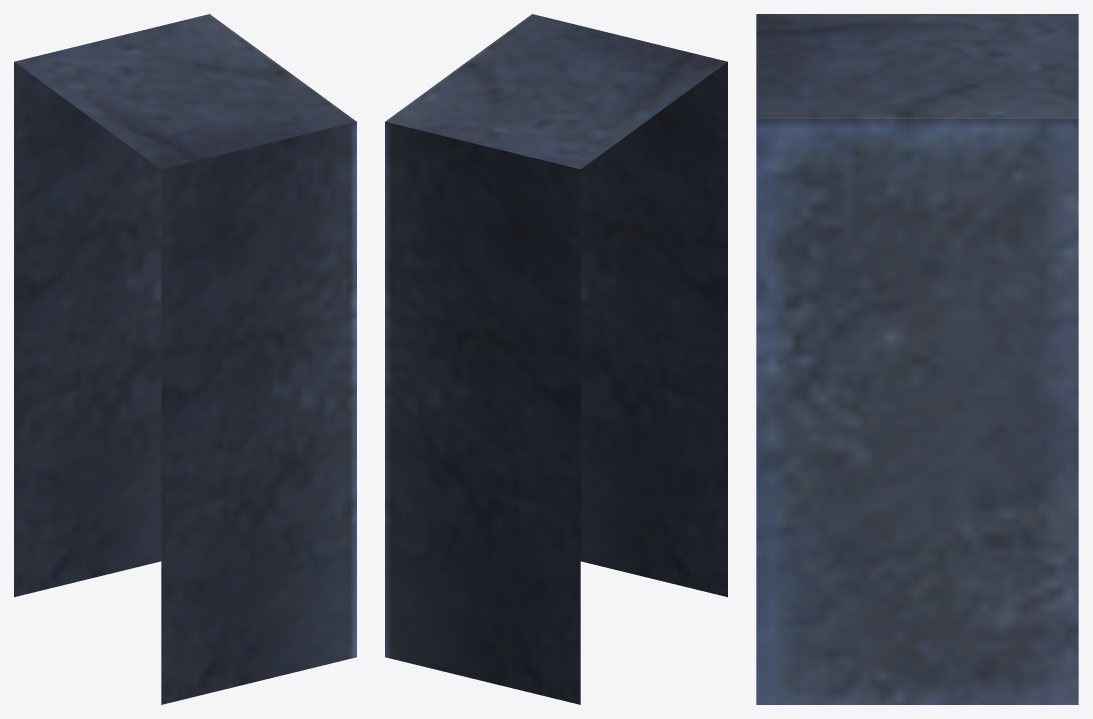
The model's file is FB_MoFangHuanJing_Zhuanqiang02.FBX.
The picture shows the model from 3 angles, left to right: view 1: azimuth 30°, elevation 25°; view 2: azimuth 150°, elevation 25°; view 3: azimuth 270°, elevation 25°; orthographic projection. The views are drawn at different scales.
Visible parts, largest first — view 1: Object04; view 2: Object04; view 3: Object04.
Boxes of the visible parts, x1,y1,x2,y2 form: Object04: (14,14,356,704); Object04: (385,14,727,704); Object04: (756,14,1078,704).
Bounding box in the file's own units: 1.06 × 2.78 × 1.39.
